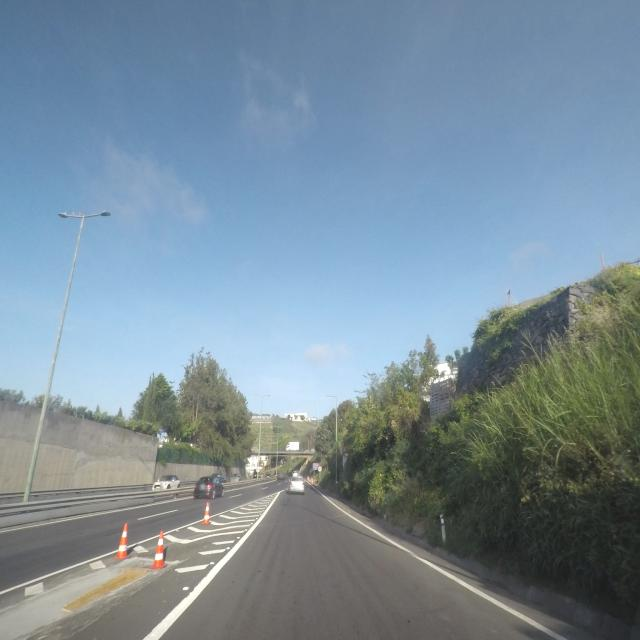car: (193, 475, 224, 499), (152, 474, 180, 489), (288, 476, 305, 494)
